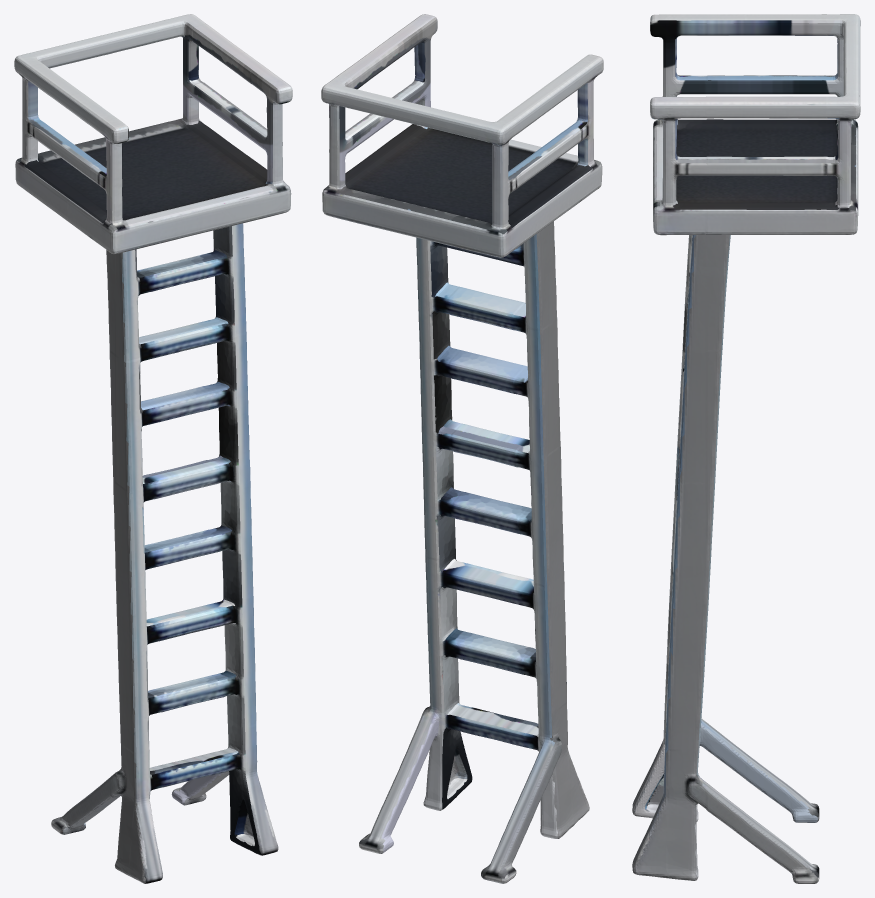
The model's file is hunyuan_rocket_ladder_textured.glb.
3 views of the same model, side by side, from view 1: azimuth 30°, elevation 25°; view 2: azimuth 150°, elevation 25°; view 3: azimuth 270°, elevation 25° (orthographic). The views are drawn at different scales.
Parts seen in each view (by area): view 1: tmpu1qi28gp.ply; view 2: tmpu1qi28gp.ply; view 3: tmpu1qi28gp.ply.
Boxes of the visible parts, x1=… form: tmpu1qi28gp.ply: x1=14, y1=14, x2=292, y2=883; tmpu1qi28gp.ply: x1=321, y1=14, x2=603, y2=883; tmpu1qi28gp.ply: x1=632, y1=14, x2=860, y2=883.
Size of the model in its own units: 0.4932 by 1.99 by 0.5219.
Materials: 1 (1 with a texture image).
